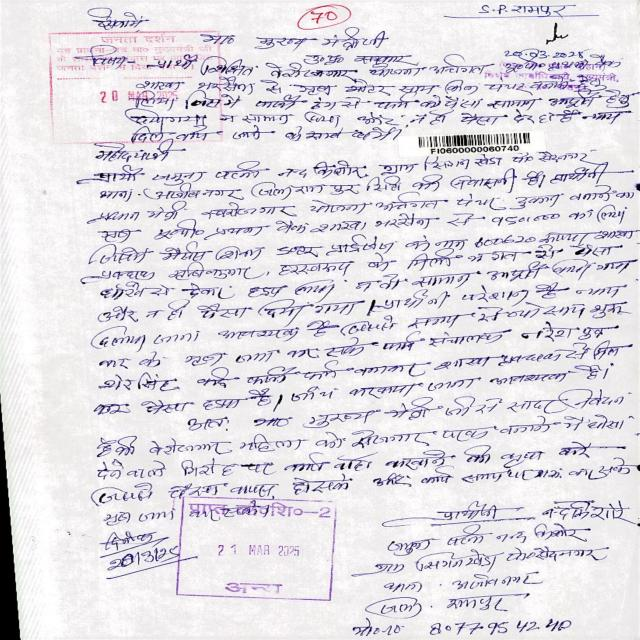barcode: (413, 128, 536, 157)
jantadarsan: (49, 33, 224, 147)
pinkstamp: (178, 499, 335, 602)
